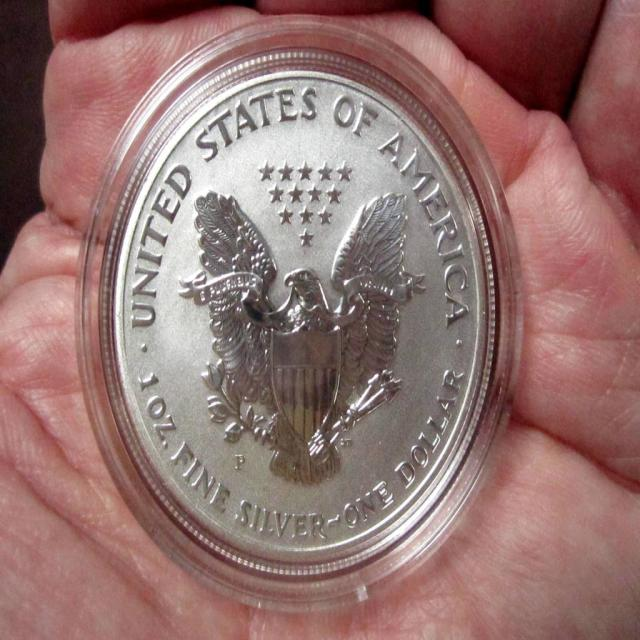Coin: (110, 70, 490, 567)
